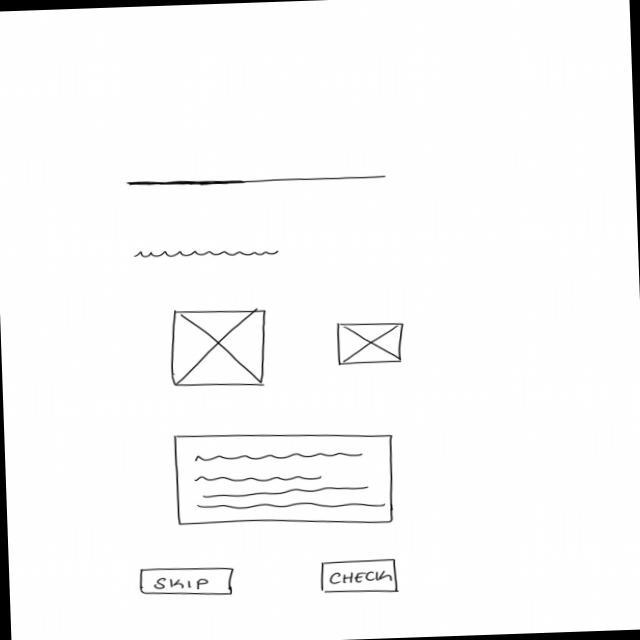button: (139, 566, 236, 600), (320, 559, 402, 597)
container: (171, 426, 399, 533)
image: (166, 307, 270, 391), (334, 321, 408, 368)
text: (192, 448, 365, 465), (135, 246, 283, 263)
textbox: (194, 468, 388, 516)
